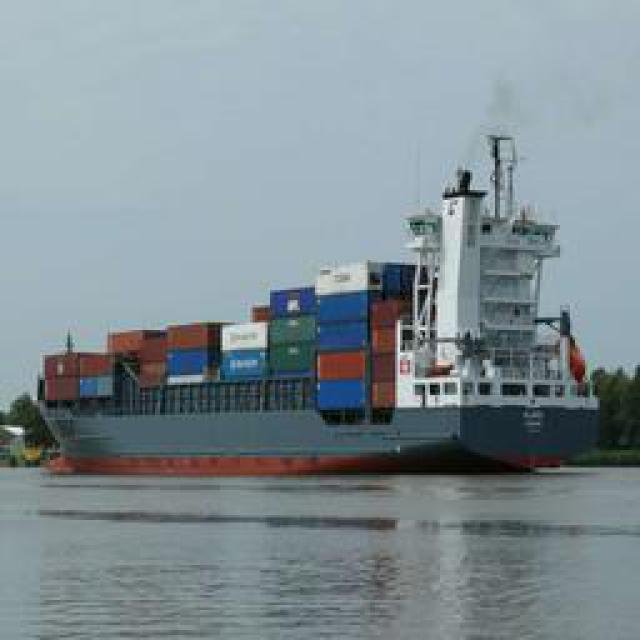Ship: (45, 90, 600, 480)
